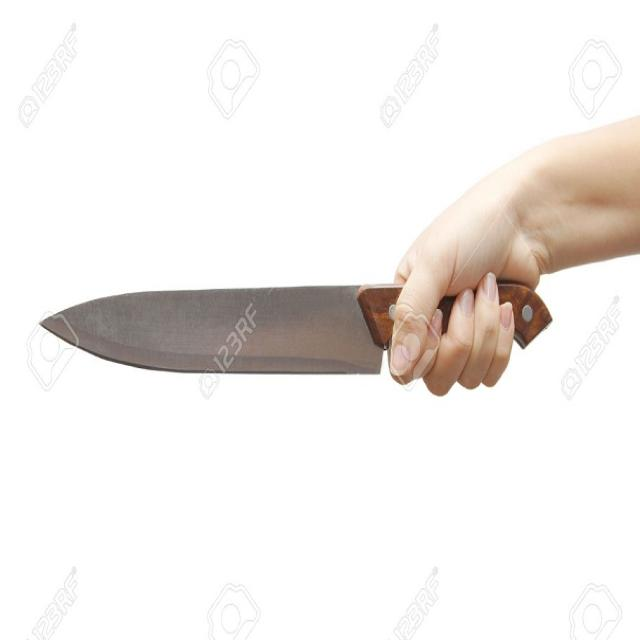knife: (38, 276, 562, 383)
